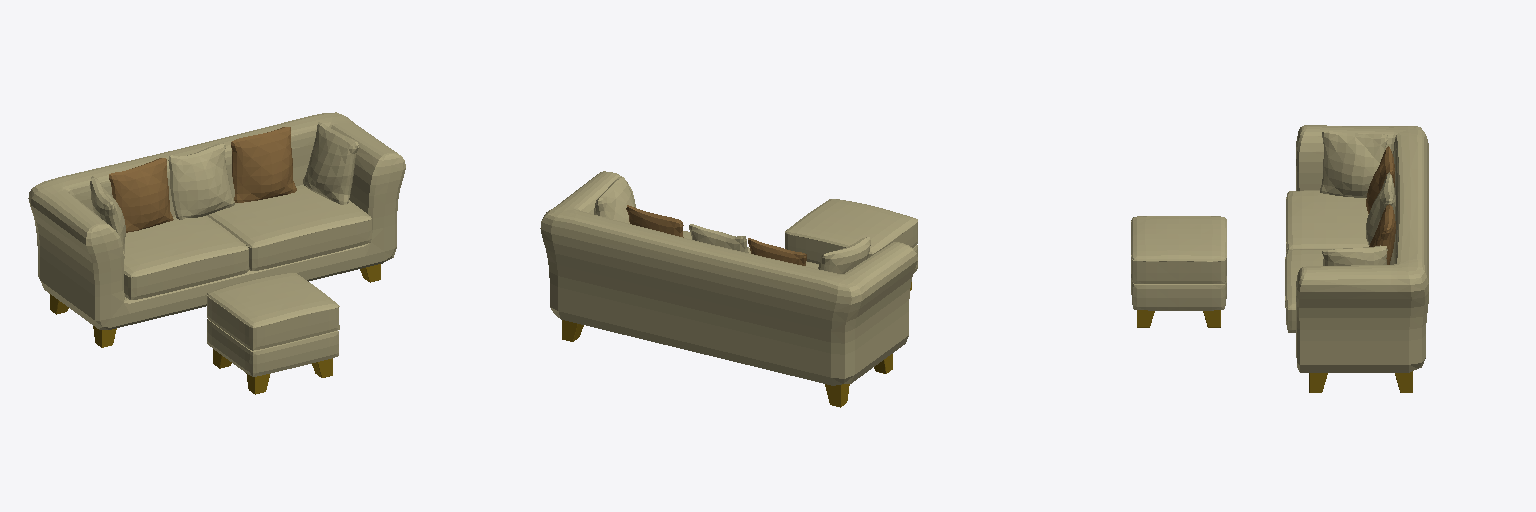
The model's file is clear_sofa.obj.
The picture shows the model from 3 angles: view 1: azimuth 30°, elevation 25°; view 2: azimuth 150°, elevation 25°; view 3: azimuth 270°, elevation 25°; orthographic projection.
Visible parts, largest first — view 1: sofa_Cube, big_cushion1.002_Cube.010, big_cushion2_Cube.001, big_cushion1_Cube.003, cushion_dark2_Cube.005, cushion_clear1_Cube.004, cushion_dark_Cube.028, cushion_clear3_Cube.007, cushion_clear2_Cube.006, legs.001_Cube.011, legs_Cube.008; view 2: sofa_Cube, big_cushion1.002_Cube.010, cushion_clear3_Cube.007, cushion_clear2_Cube.006, legs_Cube.008, cushion_dark2_Cube.005, cushion_clear1_Cube.004, cushion_dark_Cube.028; view 3: sofa_Cube, big_cushion1.002_Cube.010, big_cushion1_Cube.003, cushion_clear2_Cube.006, big_cushion2_Cube.001, cushion_clear3_Cube.007, cushion_clear1_Cube.004, cushion_dark2_Cube.005, cushion_dark_Cube.028, legs_Cube.008, legs.001_Cube.011.
Boxes of the visible parts, box(x1,y1,x2,y2) form: sofa_Cube: box(28, 112, 405, 329); big_cushion1.002_Cube.010: box(207, 272, 339, 376); big_cushion2_Cube.001: box(206, 184, 371, 270); big_cushion1_Cube.003: box(124, 216, 248, 299); cushion_dark2_Cube.005: box(231, 127, 296, 202); cushion_clear1_Cube.004: box(168, 143, 234, 219); cushion_dark_Cube.028: box(109, 158, 173, 232); cushion_clear3_Cube.007: box(303, 122, 358, 204); cushion_clear2_Cube.006: box(90, 176, 125, 258); legs.001_Cube.011: box(213, 349, 332, 394); legs_Cube.008: box(50, 264, 380, 347); sofa_Cube: box(540, 171, 917, 385); big_cushion1.002_Cube.010: box(785, 199, 917, 272); cushion_clear3_Cube.007: box(594, 177, 635, 223); cushion_clear2_Cube.006: box(818, 237, 870, 273); legs_Cube.008: box(562, 320, 892, 407); cushion_dark2_Cube.005: box(626, 205, 683, 237); cushion_clear1_Cube.004: box(689, 224, 748, 252); cushion_dark_Cube.028: box(748, 238, 806, 265); sofa_Cube: box(1296, 125, 1428, 372); big_cushion1.002_Cube.010: box(1131, 216, 1226, 310); big_cushion1_Cube.003: box(1286, 190, 1368, 251); cushion_clear2_Cube.006: box(1320, 131, 1387, 197); big_cushion2_Cube.001: box(1285, 249, 1332, 332); cushion_clear3_Cube.007: box(1322, 245, 1387, 265); cushion_clear1_Cube.004: box(1366, 172, 1395, 245); cushion_dark2_Cube.005: box(1369, 204, 1395, 264); cushion_dark_Cube.028: box(1366, 146, 1394, 213); legs_Cube.008: box(1309, 371, 1412, 392); legs.001_Cube.011: box(1137, 310, 1220, 327).
Bounding box in the file's own units: 5.69 × 2.35 × 4.61.